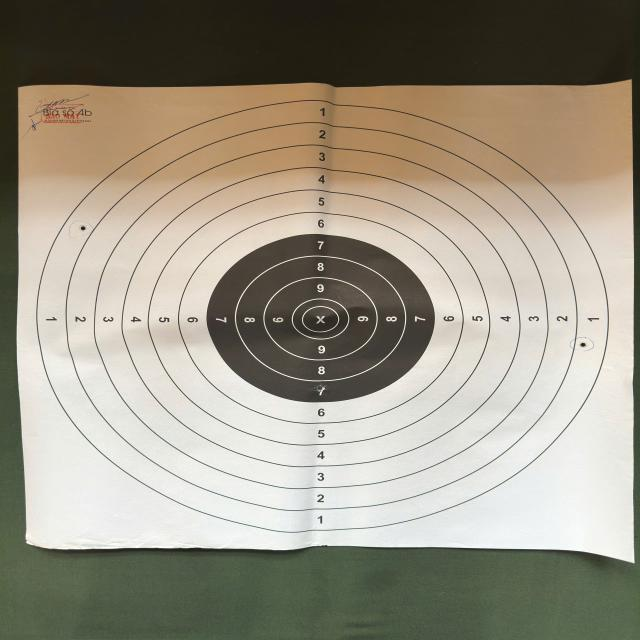bullet: (315, 384, 324, 392), (579, 341, 587, 348), (78, 226, 86, 230)
target: (18, 81, 634, 561)
